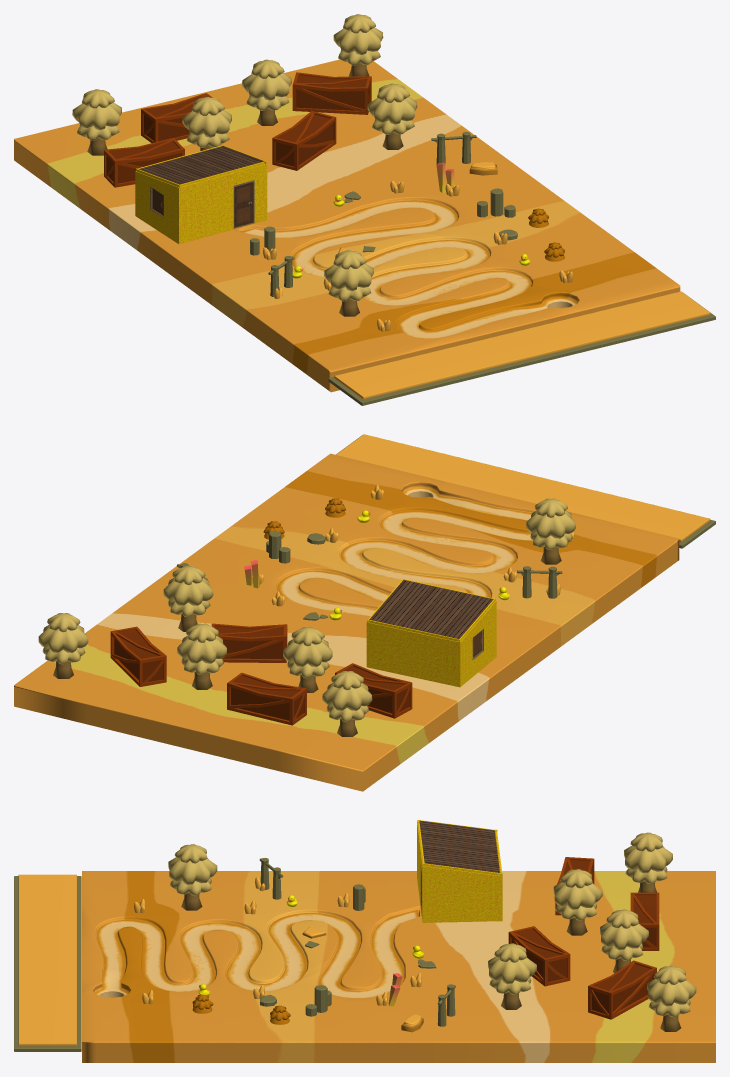
The model's file is yellow_map.fbx.
The picture shows the model from 3 angles, top to bottom: view 1: azimuth 30°, elevation 25°; view 2: azimuth 150°, elevation 25°; view 3: azimuth 270°, elevation 25°; orthographic projection.
Visible parts, largest first — view 1: ground, polySurface61, House, pCube23, polySurface71, pCube24, Roof, pCube25, polySurface38, polySurface119, polySurface120, polySurface122 (+5 smaller); view 2: ground, polySurface61, House, Roof, pCube22, pCube24, pCube23, polySurface123, polySurface38, polySurface120, polySurface122, polySurface121 (+3 smaller); view 3: ground, polySurface61, House, Roof, pCube23, polySurface121, polySurface38, polySurface123, polySurface119, polySurface71, pCube24, polySurface122 (+5 smaller).
Part boxes in pixels (x1,y1,x2,y2): ground: (14, 59, 680, 392); polySurface61: (334, 291, 710, 399); House: (135, 145, 267, 244); pCube23: (292, 72, 371, 114); polySurface71: (328, 294, 715, 405); pCube24: (272, 111, 336, 170); Roof: (139, 146, 264, 184); pCube25: (104, 138, 184, 187); polySurface38: (324, 250, 373, 316); polySurface119: (367, 83, 417, 149); polySurface120: (242, 59, 291, 125); polySurface122: (72, 89, 121, 155); ground: (14, 453, 679, 791); polySurface61: (336, 434, 710, 541); House: (366, 578, 496, 687); Roof: (369, 580, 493, 639); pCube22: (227, 672, 306, 725); pCube24: (211, 623, 287, 662); pCube23: (110, 626, 166, 686); polySurface123: (38, 613, 88, 678); polySurface38: (526, 498, 575, 564); polySurface120: (177, 623, 226, 689); polySurface122: (322, 671, 372, 736); polySurface121: (283, 627, 332, 692); ground: (82, 871, 715, 1062); polySurface61: (18, 874, 76, 1046); House: (417, 820, 502, 922); Roof: (419, 820, 499, 872); pCube23: (588, 960, 656, 1019); polySurface121: (553, 869, 602, 935); polySurface38: (168, 844, 217, 910); polySurface123: (647, 965, 696, 1031); polySurface119: (488, 943, 536, 1009); polySurface71: (14, 876, 81, 1051); pCube24: (508, 926, 570, 986); polySurface122: (624, 832, 672, 892).
Size of the model in its own units: 1669 by 369 by 2866.
Materials: 14 (9 with a texture image).
